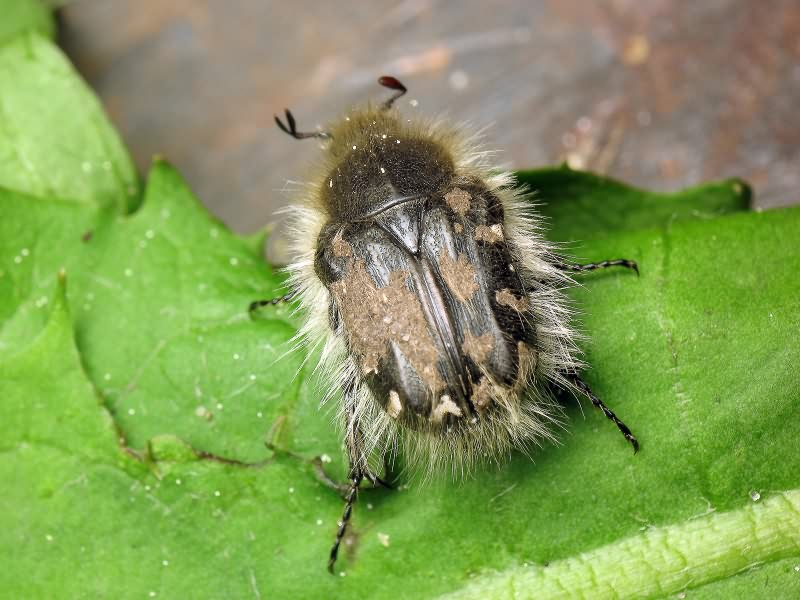Tropinota_hirta: (229, 54, 672, 574)
